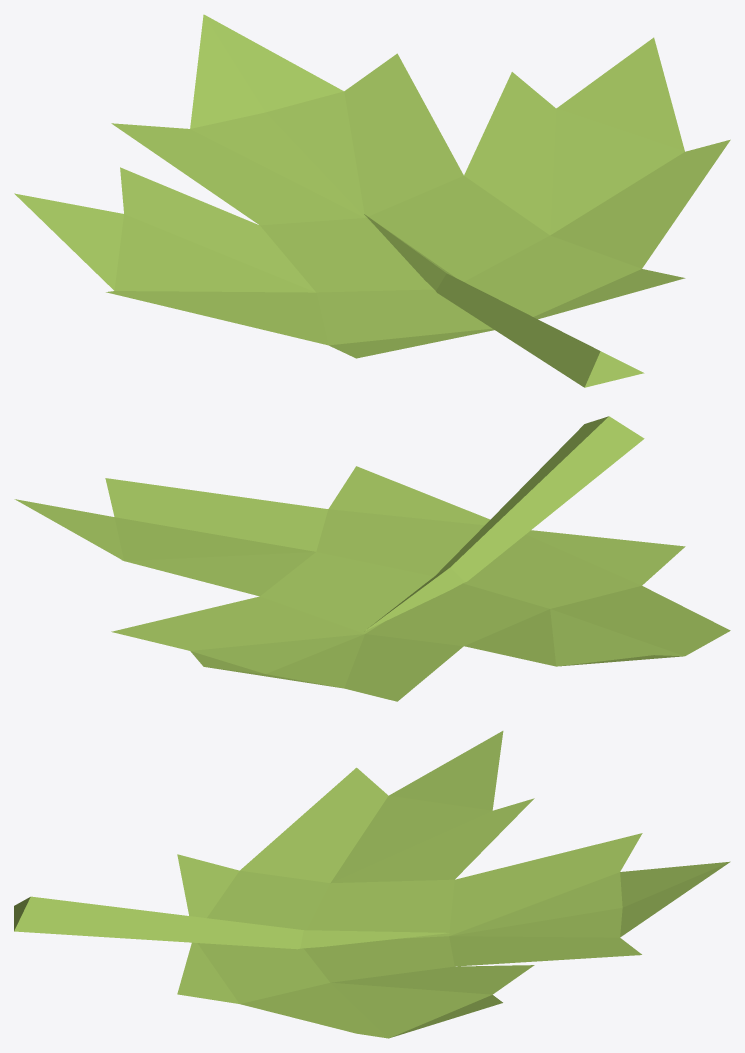
Rendered from leaf-maple02.fbx.
The picture shows the model from 3 angles, top to bottom: view 1: azimuth 30°, elevation 25°; view 2: azimuth 150°, elevation 25°; view 3: azimuth 270°, elevation 25°; orthographic projection. The views are drawn at different scales.
Parts seen in each view (by area): view 1: leaf-maple02; view 2: leaf-maple02; view 3: leaf-maple02.
Boxes of the visible parts, bbox=[...] form: leaf-maple02: bbox=[14, 14, 730, 387]; leaf-maple02: bbox=[14, 416, 730, 701]; leaf-maple02: bbox=[14, 731, 730, 1038].
Bounding box in the file's own units: 0.5523 × 0.0775 × 0.6143.
